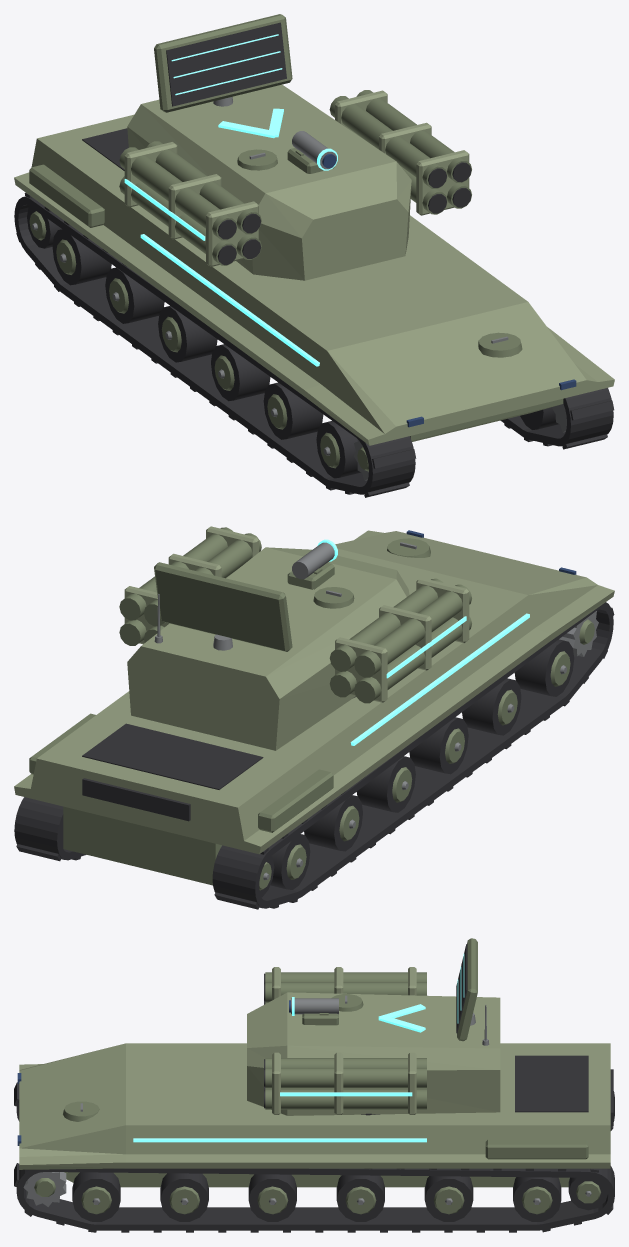
Rendered from ad_blue.glb.
The picture shows the model from 3 angles, top to bottom: view 1: azimuth 30°, elevation 25°; view 2: azimuth 150°, elevation 25°; view 3: azimuth 270°, elevation 25°; orthographic projection. The views are drawn at different scales.
Parts seen in each view (by area): view 1: body, turret, gun; view 2: body, turret, gun; view 3: body, turret, gun.
Part boxes in pixels (x1,y1,x2,y2): body: (14, 114, 614, 497); turret: (127, 14, 411, 280); gun: (119, 90, 471, 266); body: (14, 530, 614, 909); turret: (127, 539, 409, 750); gun: (119, 526, 471, 703); body: (14, 1043, 614, 1232); turret: (247, 938, 500, 1115); gun: (264, 967, 426, 1114).
Bounding box in the file's own units: 3.45 × 3.32 × 8.18.
